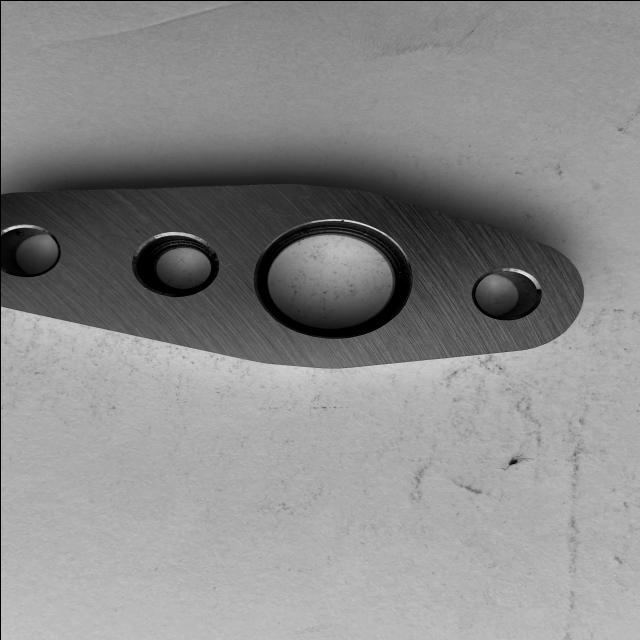chap: (106, 263, 115, 275)
